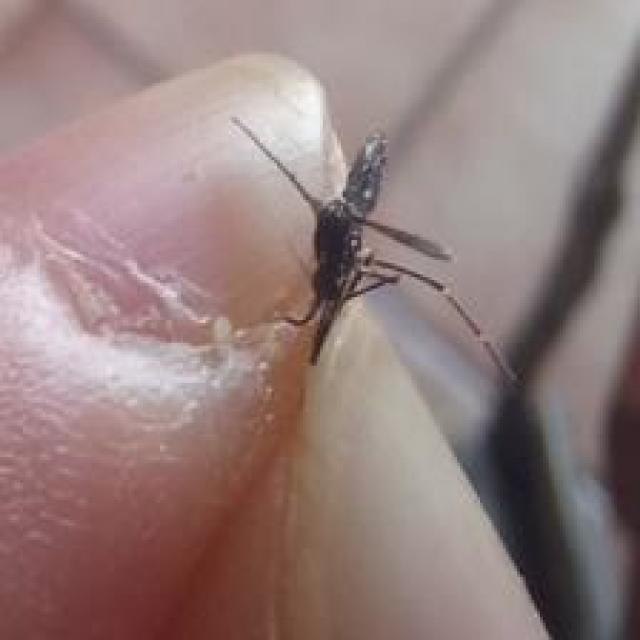Aedes albopictus: (227, 113, 522, 387)
